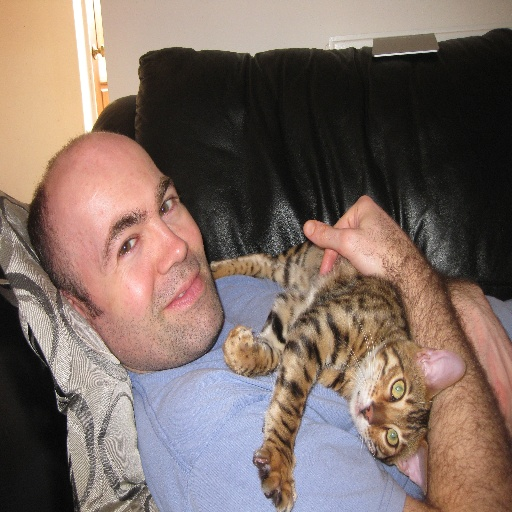hand: (444, 283, 511, 442), (305, 199, 420, 289)
